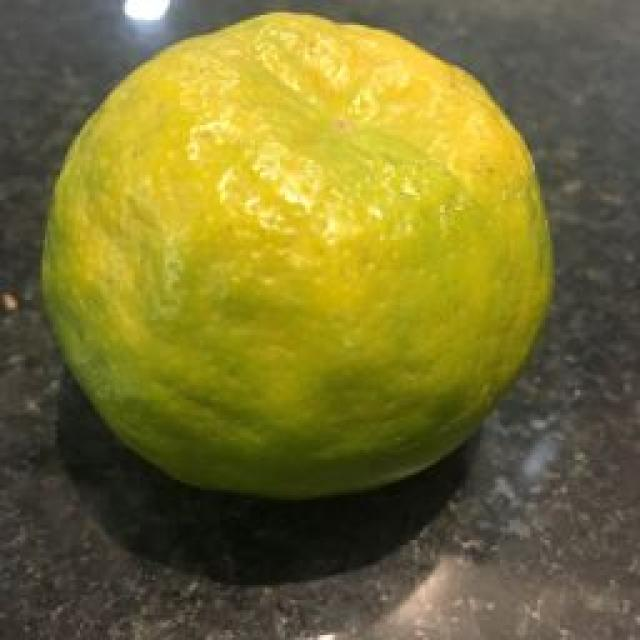Good_Orange: (42, 12, 558, 502)
